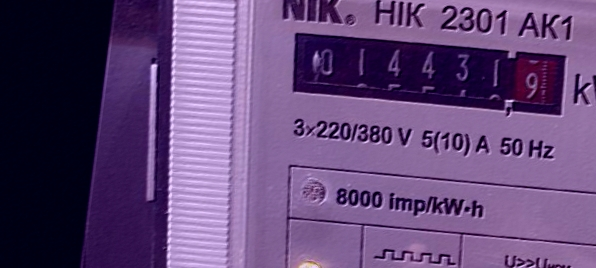0: (315, 44, 339, 79)
1: (351, 43, 373, 78), (488, 56, 505, 89)
3: (451, 51, 474, 85)
4: (382, 44, 407, 80), (417, 46, 440, 82)
9: (521, 68, 542, 101)
screen: (279, 13, 582, 136)
